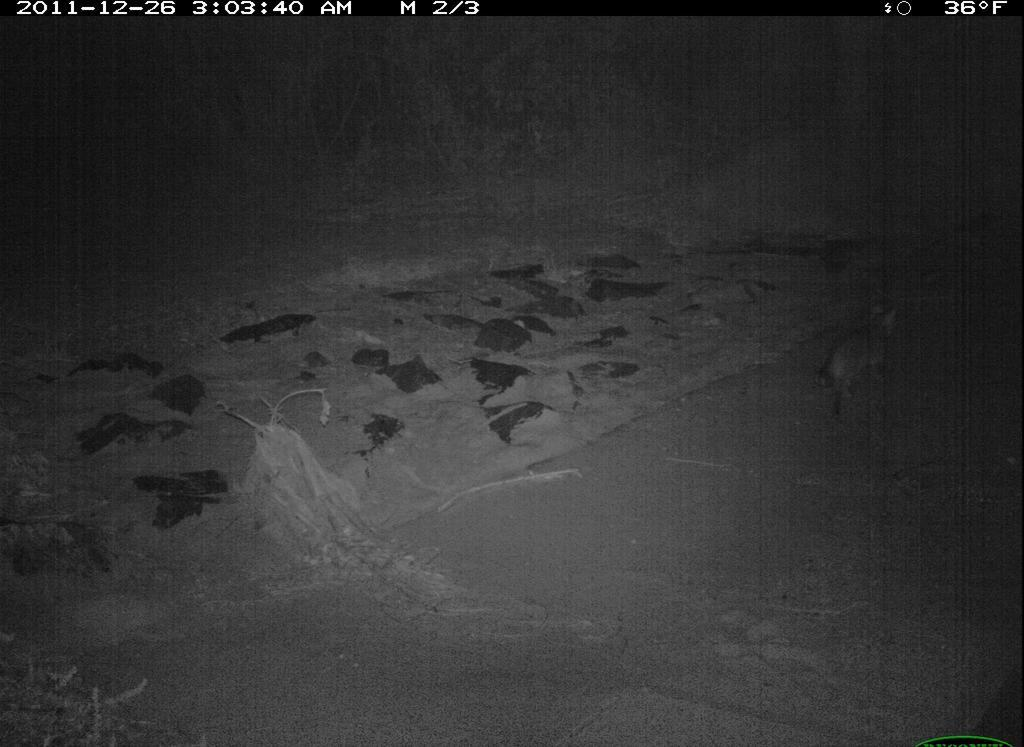cat: (809, 296, 912, 427)
